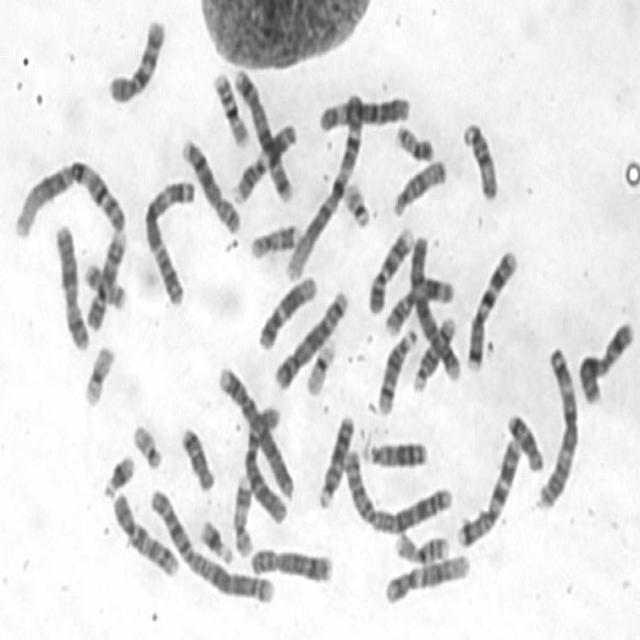A1: (283, 88, 367, 282), (13, 154, 126, 239)
A2: (146, 483, 278, 607), (341, 443, 455, 539)
A3: (534, 341, 582, 511), (142, 172, 196, 306)
B4: (213, 359, 297, 505), (406, 228, 463, 384)
B5: (229, 63, 294, 207), (272, 285, 352, 392)
C10: (108, 485, 180, 580), (105, 12, 168, 106)
C11: (229, 118, 298, 205), (382, 272, 454, 339)
C12: (254, 270, 319, 352), (381, 549, 471, 607)
C6: (240, 401, 290, 525), (315, 88, 411, 136)
C7: (453, 430, 523, 552), (463, 244, 521, 373)
C8: (179, 135, 243, 239), (248, 542, 335, 586)
C9: (83, 225, 129, 333), (366, 220, 416, 317)
D13: (317, 410, 357, 510), (359, 433, 430, 470)
D14: (373, 322, 420, 418), (410, 310, 460, 395)
D15: (390, 154, 449, 218), (459, 115, 501, 202)
E16: (209, 66, 251, 148), (390, 525, 451, 566)
E17: (247, 218, 302, 262), (230, 470, 254, 558)
E18: (176, 419, 216, 493), (503, 406, 546, 474)
F19: (80, 340, 117, 407), (302, 333, 338, 395)
F20: (79, 258, 128, 312), (392, 118, 436, 162)
G21: (198, 512, 235, 566), (99, 448, 138, 499)
G22: (129, 417, 164, 470), (338, 175, 372, 229)
X: (575, 312, 637, 406), (52, 220, 92, 352)
